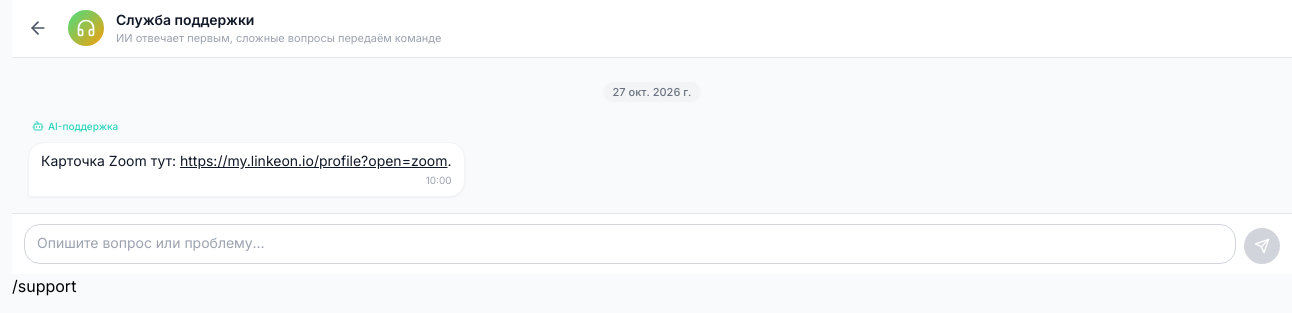
Test: ссылки в ответах поддержки › адрес раздела — ссылка, и открывается в кабинете, в той же вкладке
This screenshot has width=1292, height=313.
Click the link "https://my.linkeon.io/profile?open=zoom" at (314, 160), box [180, 152, 448, 169]
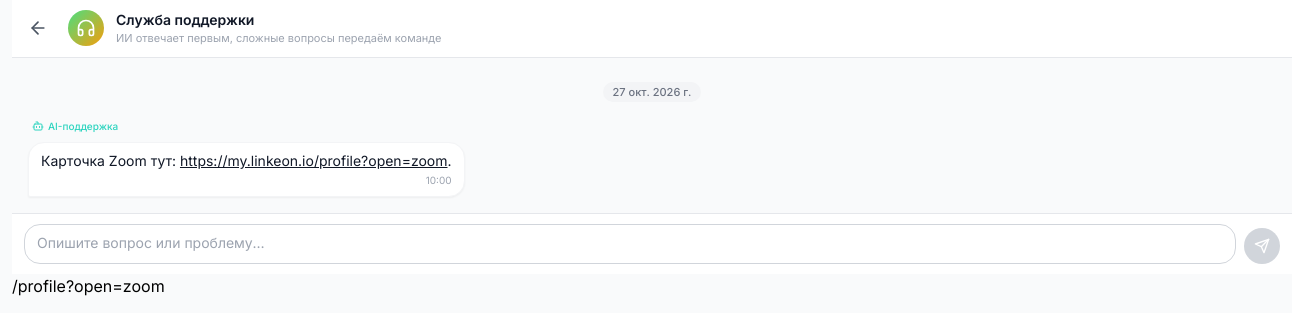
Expected: the text "/profile?open=zoom" is shown, [12, 276, 165, 296]
